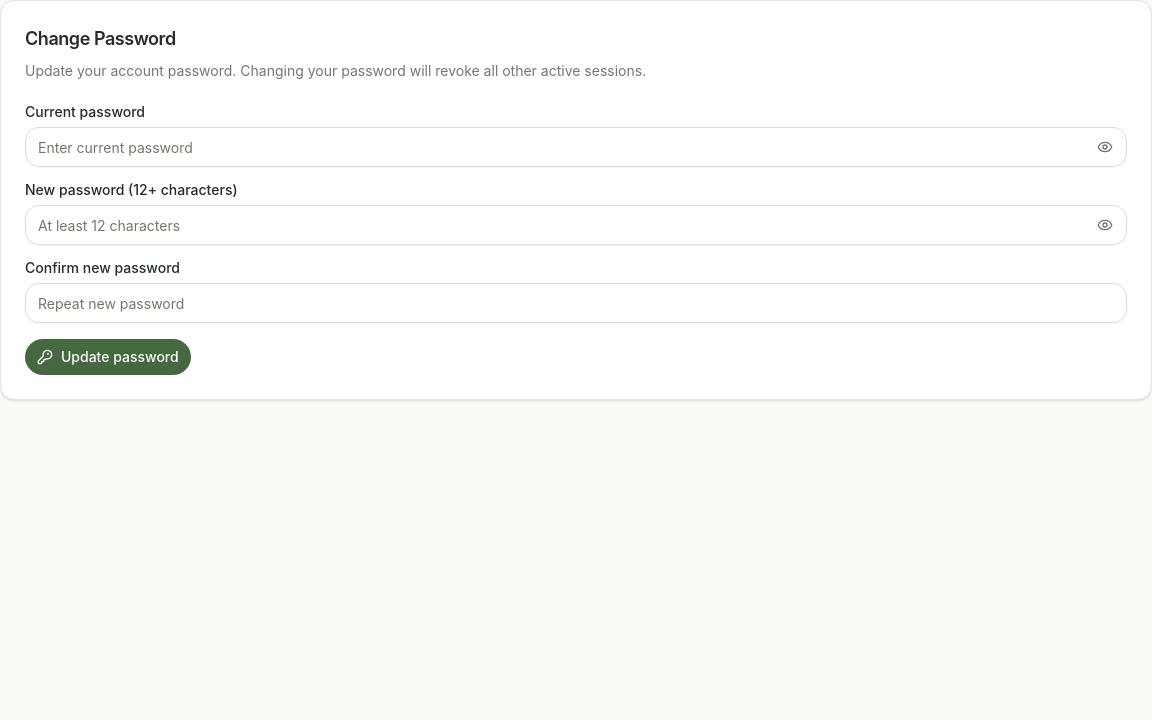
it: ChangePasswordForm › renders accessible error banner when current password is wrong
Type "wrong-current-password" into the password field labelled "Current password" at (576, 147), box [25,127,1127,167]
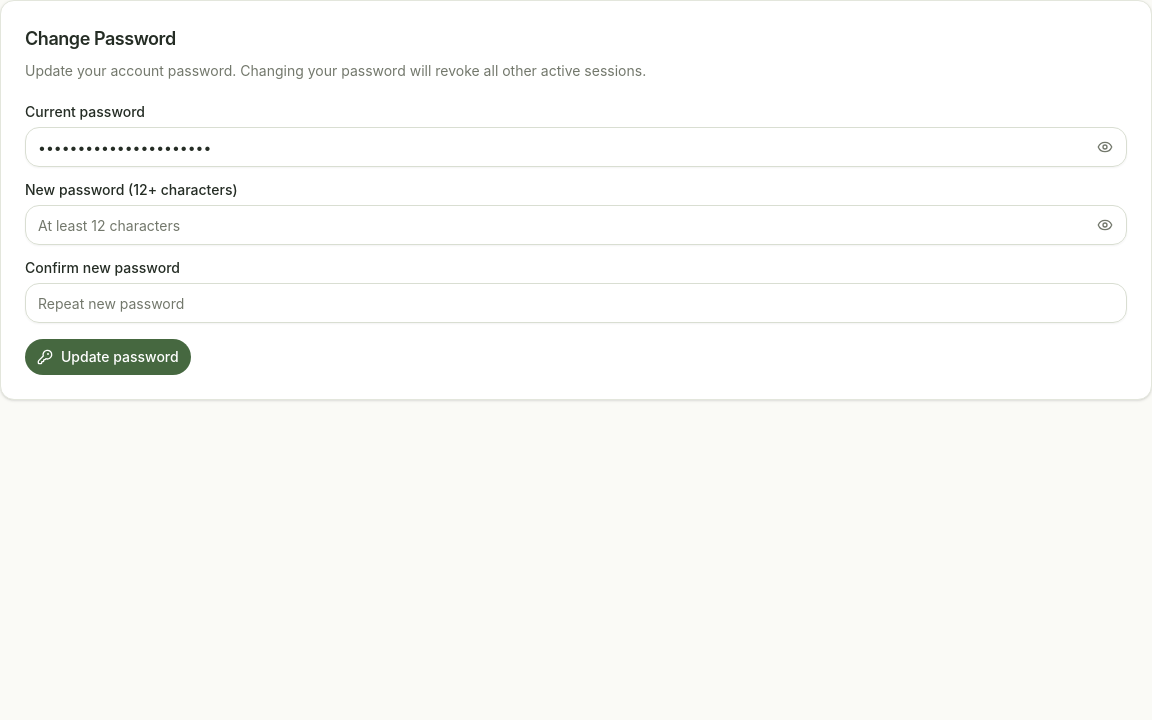
Type "brand-new-super-secure-2026" into the password field labelled "New password (12+ characters)" at (576, 225), box [25,205,1127,245]
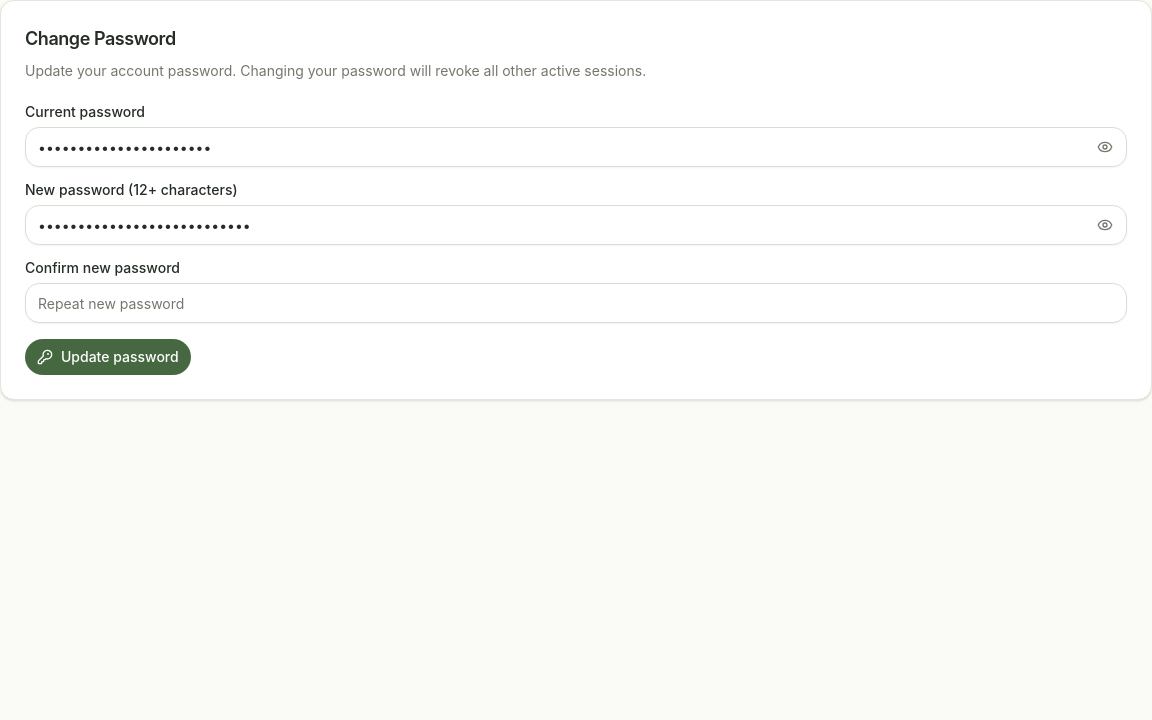
Type "brand-new-super-secure-2026" into the password field labelled "Confirm new password" at (576, 303), box [25,283,1127,323]
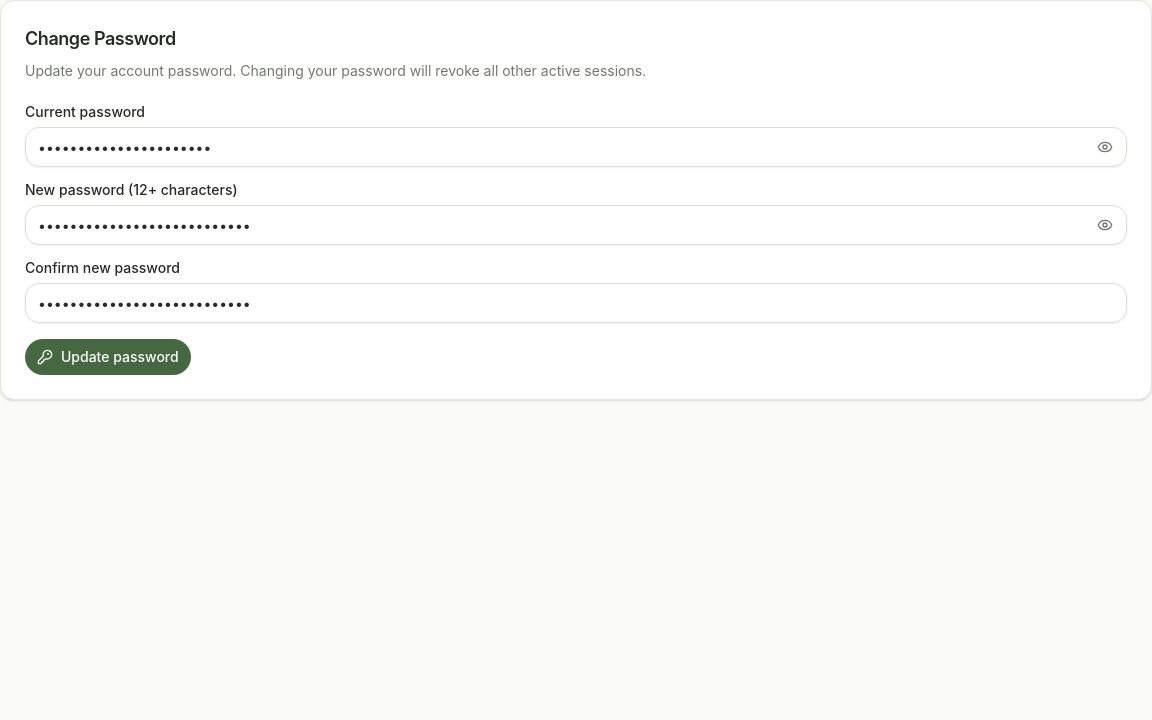
Click the button "Update password" at (108, 357), box [25,339,191,375]
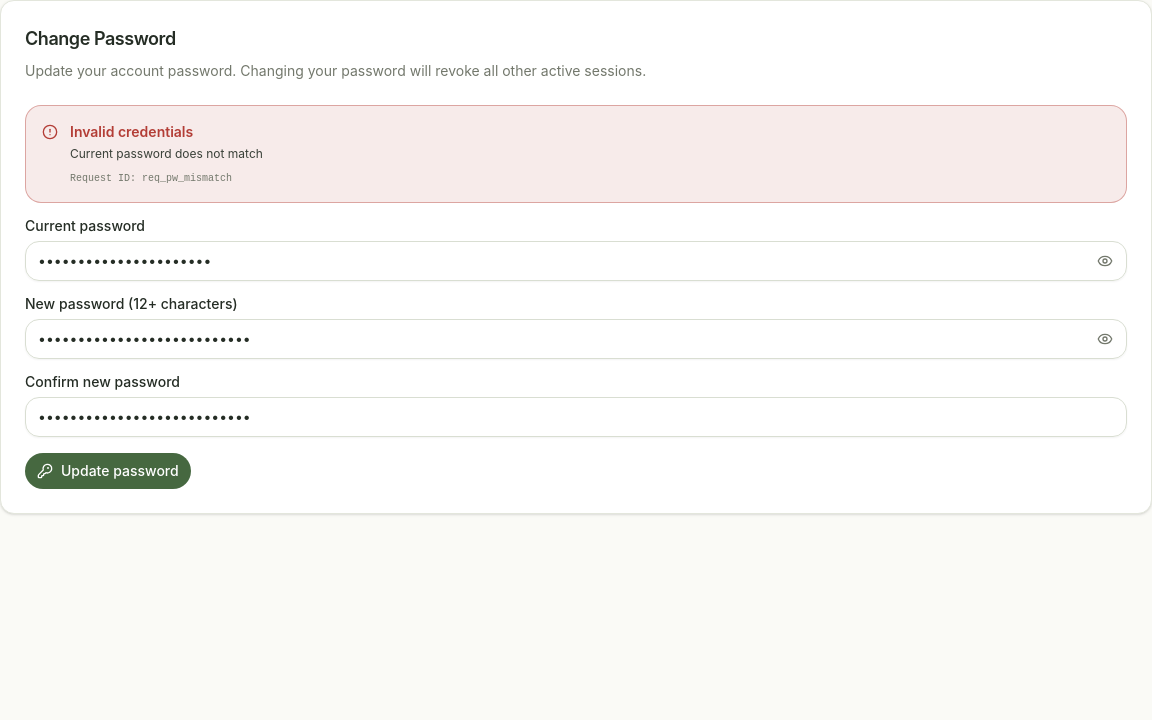
Result: the message shows "Current password does not match" at [70,146,263,161]
Result: the message shows "req_pw_mismatch" at [142,172,232,184]
